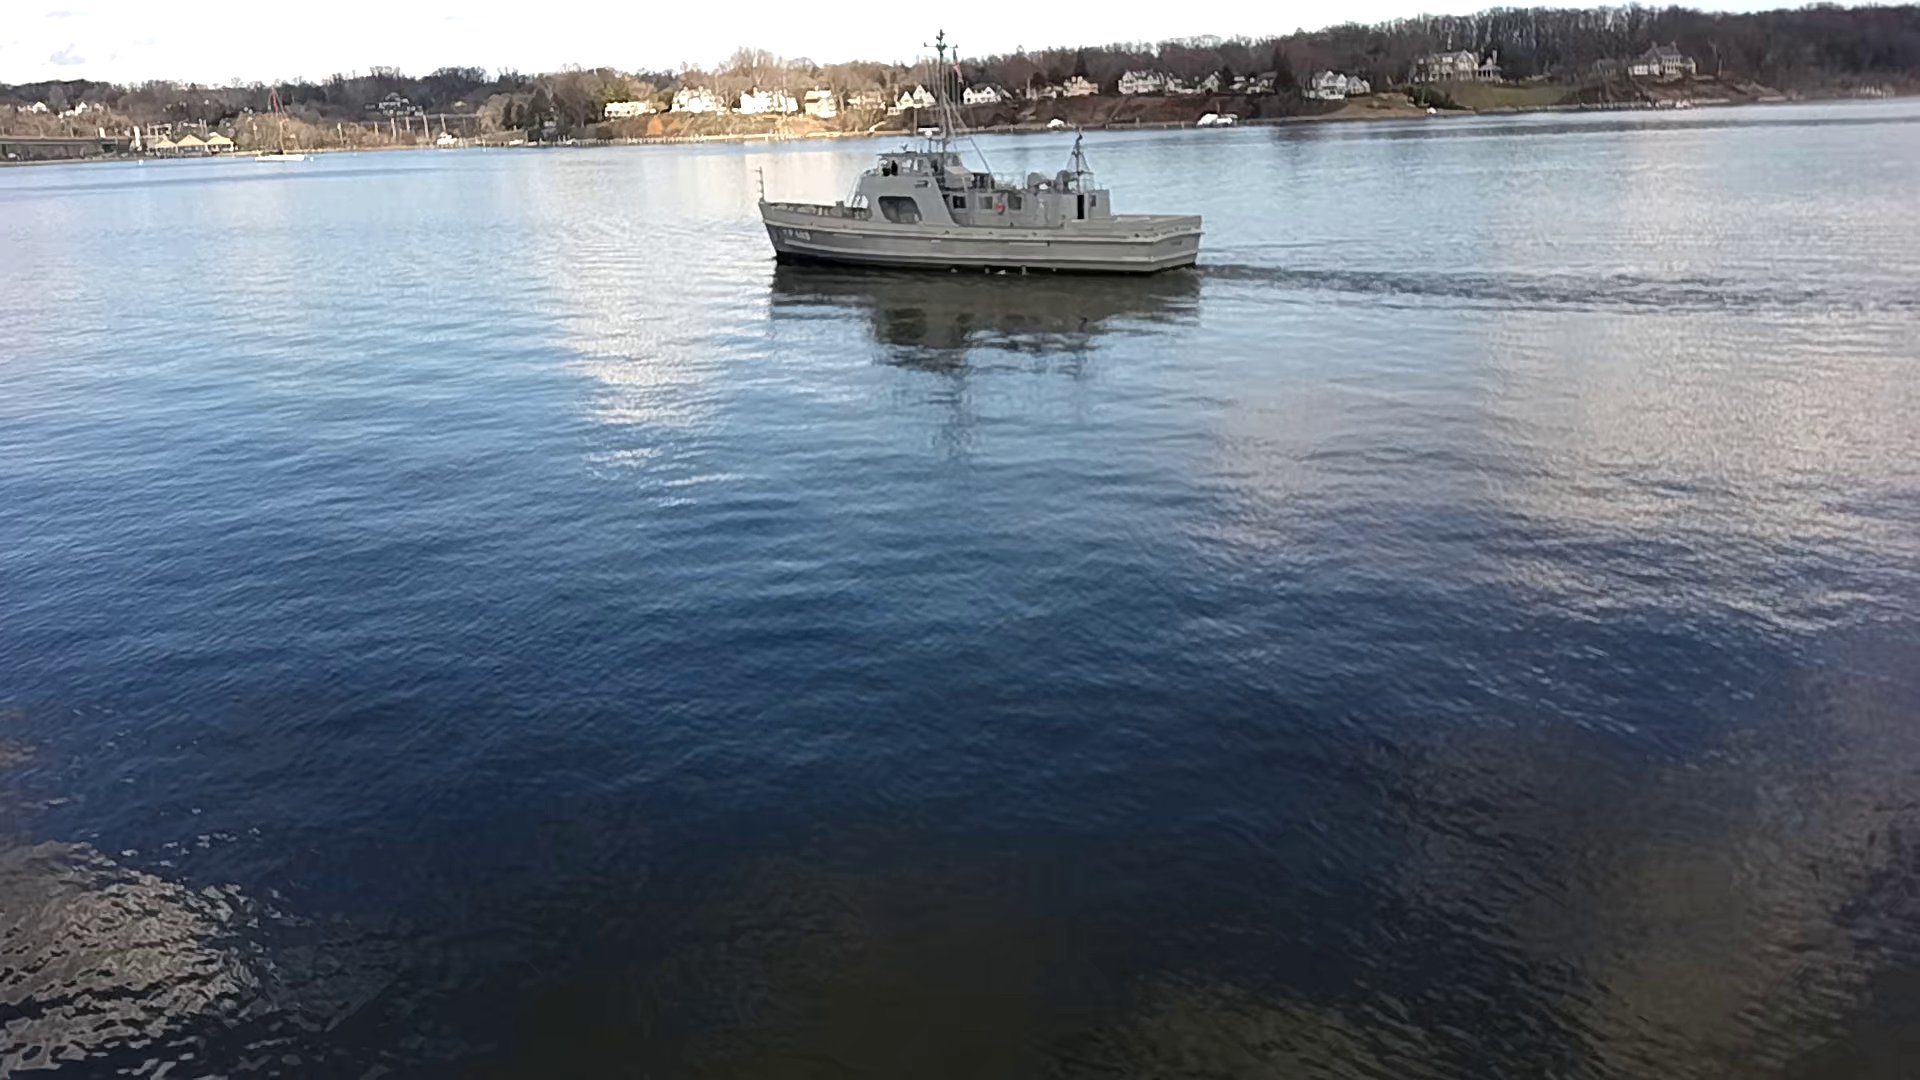YP689: (757, 32, 1203, 277)
